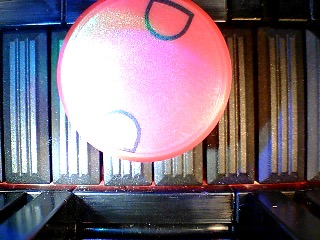MIPO2: (56, 1, 232, 162)
